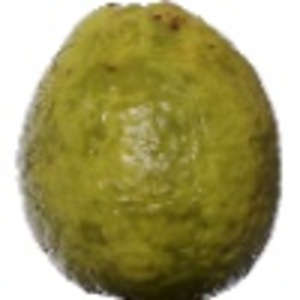goiaba: (10, 3, 288, 295)
